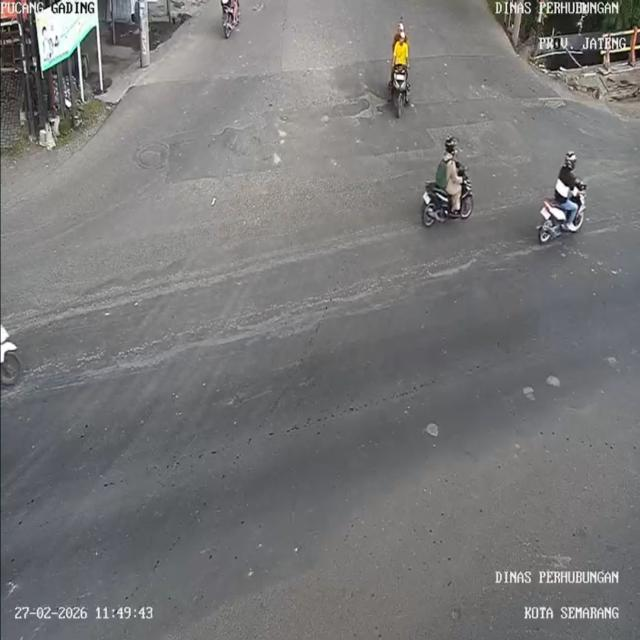motorcycle: (534, 188, 592, 246), (423, 172, 476, 225), (390, 64, 412, 112), (218, 4, 242, 41)
person: (556, 152, 580, 214), (436, 136, 462, 193), (389, 21, 412, 51), (391, 33, 410, 65)
rider_region: (418, 134, 477, 230), (536, 149, 588, 244), (384, 19, 418, 120)
